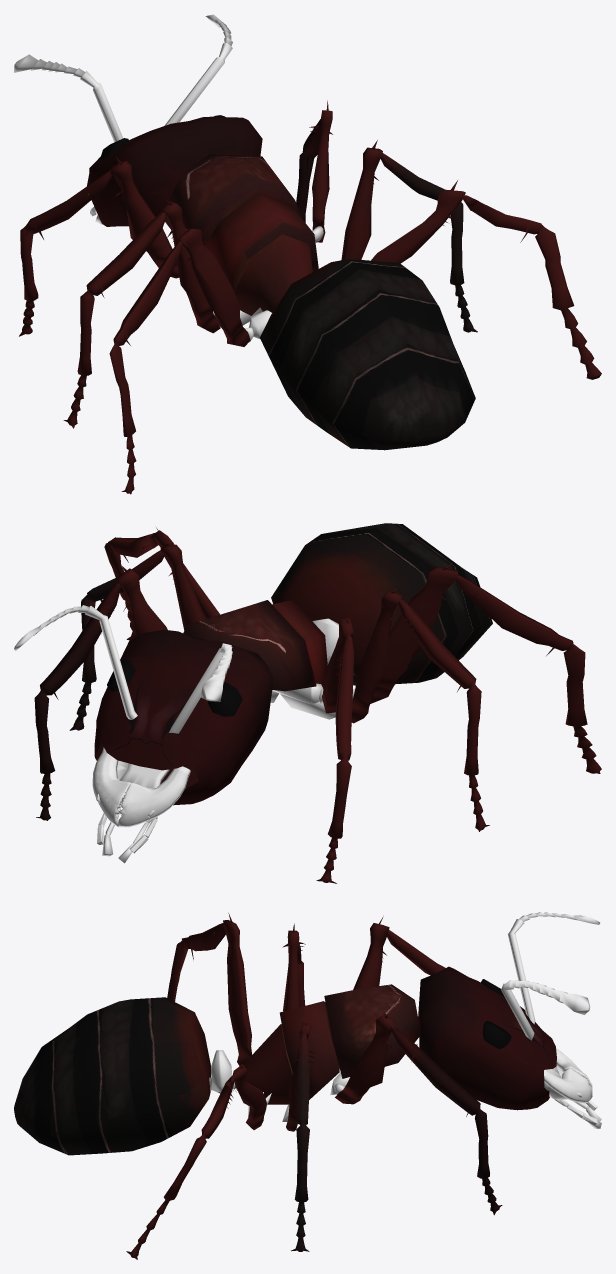
File: Ant.fbx
3 views of the same model, one above another, from view 1: azimuth 30°, elevation 25°; view 2: azimuth 150°, elevation 25°; view 3: azimuth 270°, elevation 25° (orthographic). The views are drawn at different scales.
Visible parts, largest first — view 1: Gaster_M, Leg.001, Leg, Leg.003, Leg.005, Leg.002, Leg.004; view 2: Gaster_M, Leg.001, Leg.003, Leg.004, Leg.005, Leg.002, Leg; view 3: Gaster_M, Leg.004, Leg.001, Leg.002, Leg, Leg.005, Leg.003.
Part boxes in pixels (x1,y1,x2,y2): Gaster_M: (14,14,475,450); Leg.001: (109,227,250,494); Leg: (371,180,601,379); Leg.003: (63,198,220,428); Leg.005: (19,156,179,336); Leg.002: (341,140,477,332); Leg.004: (296,100,332,242); Gaster_M: (14,523,492,863); Leg.001: (370,563,601,773); Leg.003: (351,587,489,831); Leg.004: (34,566,167,820); Leg.005: (316,617,358,883); Leg.002: (69,539,205,730); Leg: (104,527,219,640); Gaster_M: (14,912,601,1155); Leg.004: (335,1012,502,1215); Leg.001: (167,913,251,1066); Leg.002: (286,1021,315,1251); Leg: (126,1063,266,1259); Leg.005: (353,916,445,989); Leg.003: (282,923,305,1011).
Size of the model in its own units: 673 by 327 by 798.
12 materials, 9 textured.
